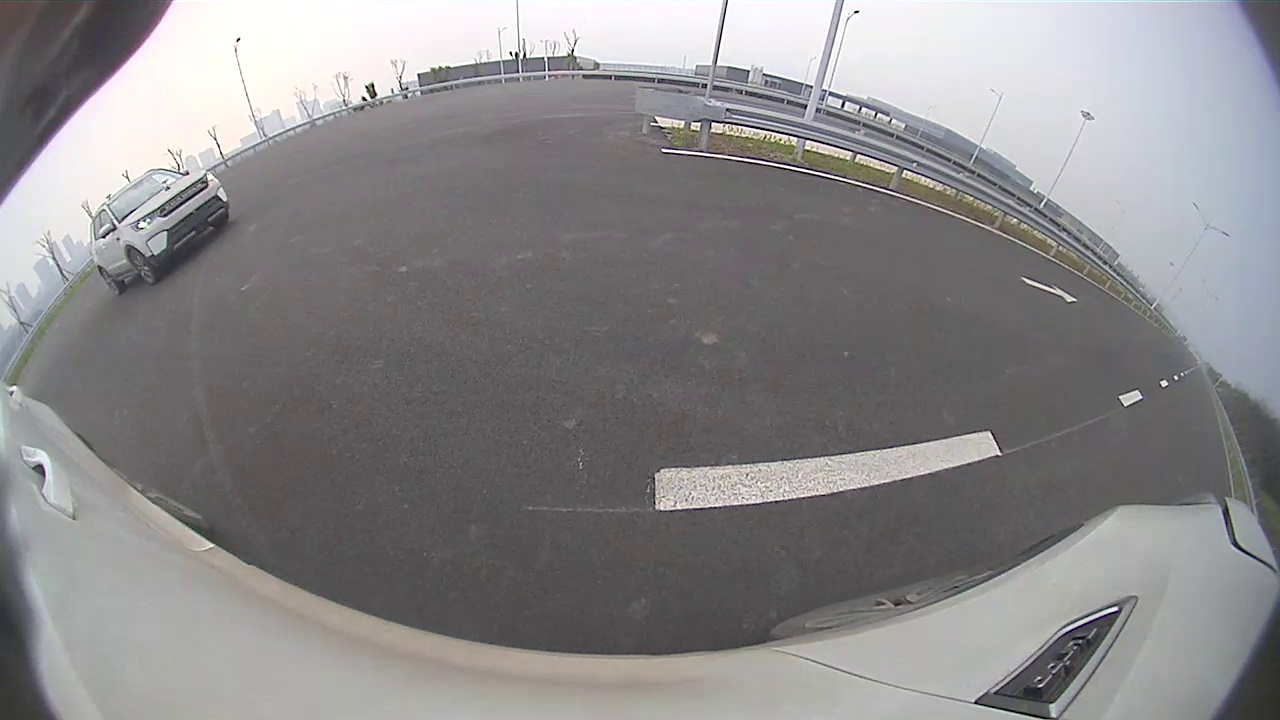car: (91, 167, 229, 292)
front: (128, 246, 158, 288)
